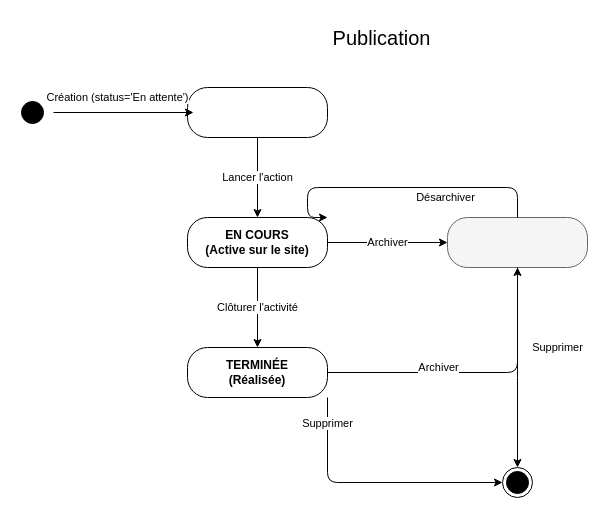
Image size: 605x515. Some labels were removed from this diagram. The shapes that lost their labels are listed below. From the top down, each one's box as (x1, y1, x2, y2) in pixels, then its label:
(186, 86, 328, 138): EN ATTENTE (Planifiée)
(446, 216, 588, 268): ARCHIVÉE (Masquée du public)
